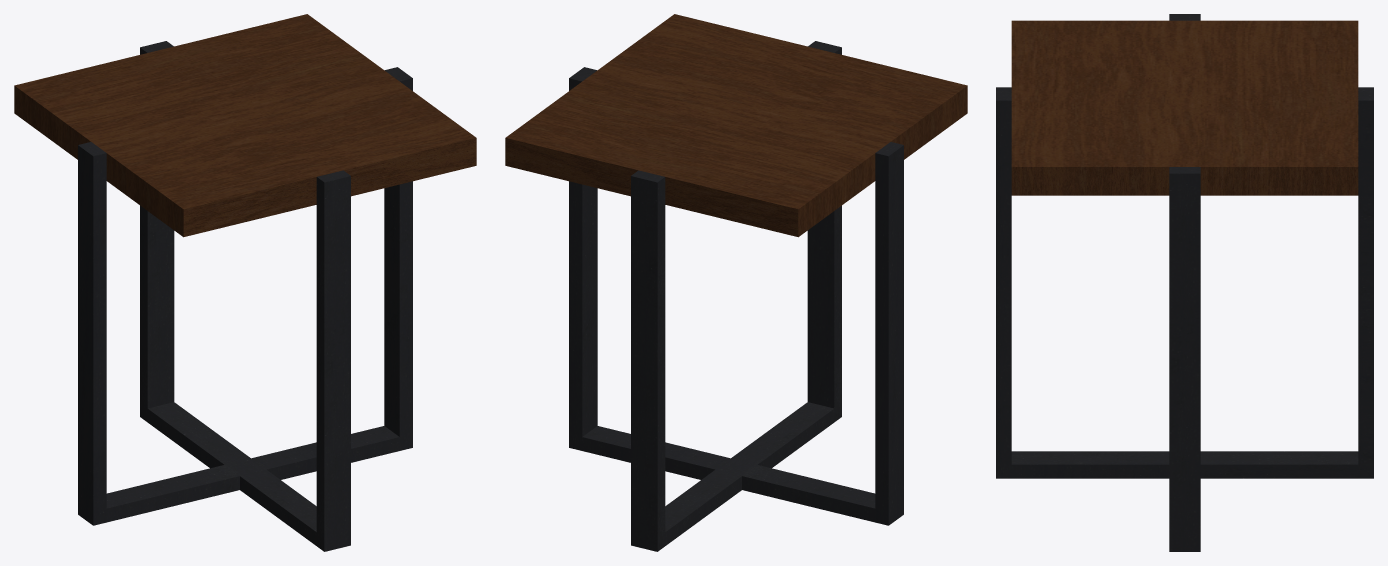
File: end-table.glb
3 renders of one model, left to right at view 1: azimuth 30°, elevation 25°; view 2: azimuth 150°, elevation 25°; view 3: azimuth 270°, elevation 25°, orthographic. The views are drawn at different scales.
Parts seen in each view (by area): view 1: end-table_ui-bounds_top, base; view 2: end-table_ui-bounds_top, base; view 3: end-table_ui-bounds_top, base.
Part boxes in pixels (x1,y1,x2,y2): end-table_ui-bounds_top: [14, 14, 476, 237]; base: [78, 41, 412, 551]; end-table_ui-bounds_top: [505, 14, 967, 237]; base: [569, 41, 903, 551]; end-table_ui-bounds_top: [1011, 20, 1358, 195]; base: [996, 14, 1373, 551].
Size of the model in its own units: 0.48 by 0.53 by 0.48.
2 materials, 2 textured.
